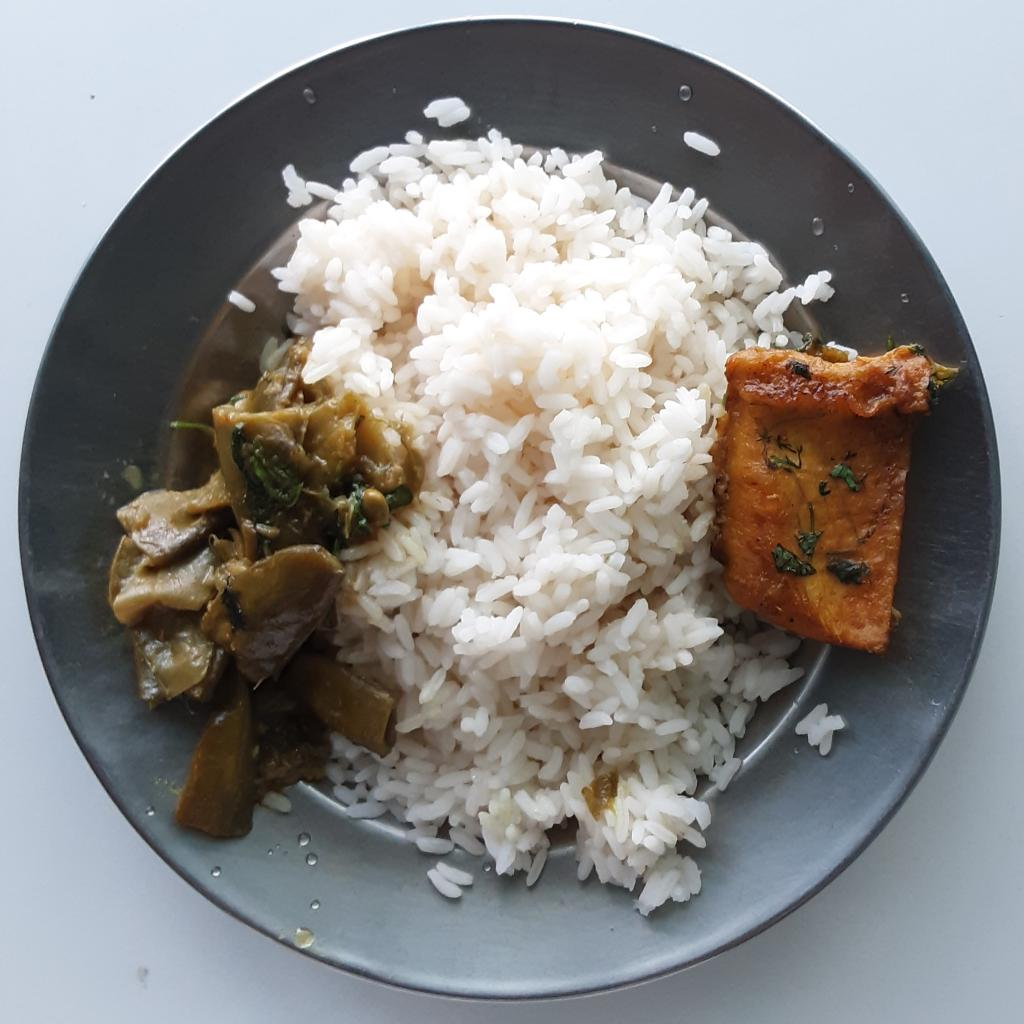fish: (712, 338, 963, 653)
rice: (253, 95, 842, 917)
shim: (100, 338, 420, 841)
